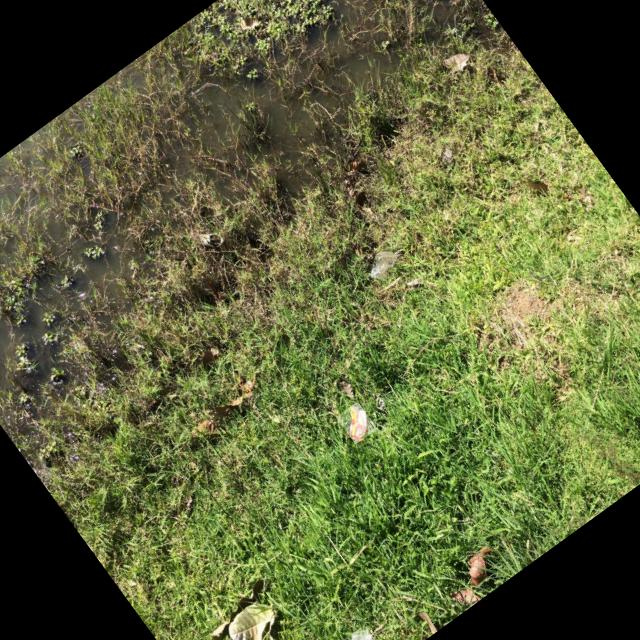Other plastic: (350, 405, 366, 440)
Plastic film: (371, 250, 401, 277), (351, 630, 373, 640)
